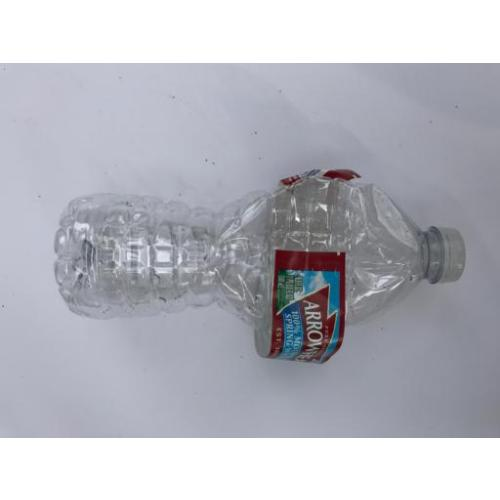plastic: (54, 169, 466, 366)
